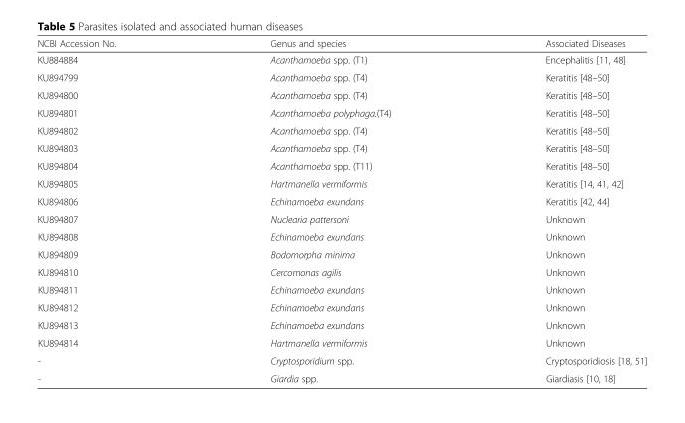table: (36, 37, 646, 383)
table column: (192, 37, 467, 383), (467, 37, 646, 383), (36, 37, 192, 383)
table column header: (36, 37, 646, 51)
table row: (36, 68, 646, 86), (36, 103, 646, 121), (36, 121, 646, 139), (36, 156, 646, 174), (36, 174, 646, 192), (36, 209, 646, 227), (36, 227, 646, 245), (36, 262, 646, 280), (36, 280, 646, 298), (36, 298, 646, 316), (36, 333, 646, 351), (36, 351, 646, 369), (36, 51, 646, 68), (36, 86, 646, 103), (36, 139, 646, 156), (36, 192, 646, 209), (36, 245, 646, 262), (36, 316, 646, 333), (36, 37, 646, 51), (36, 369, 646, 383)
